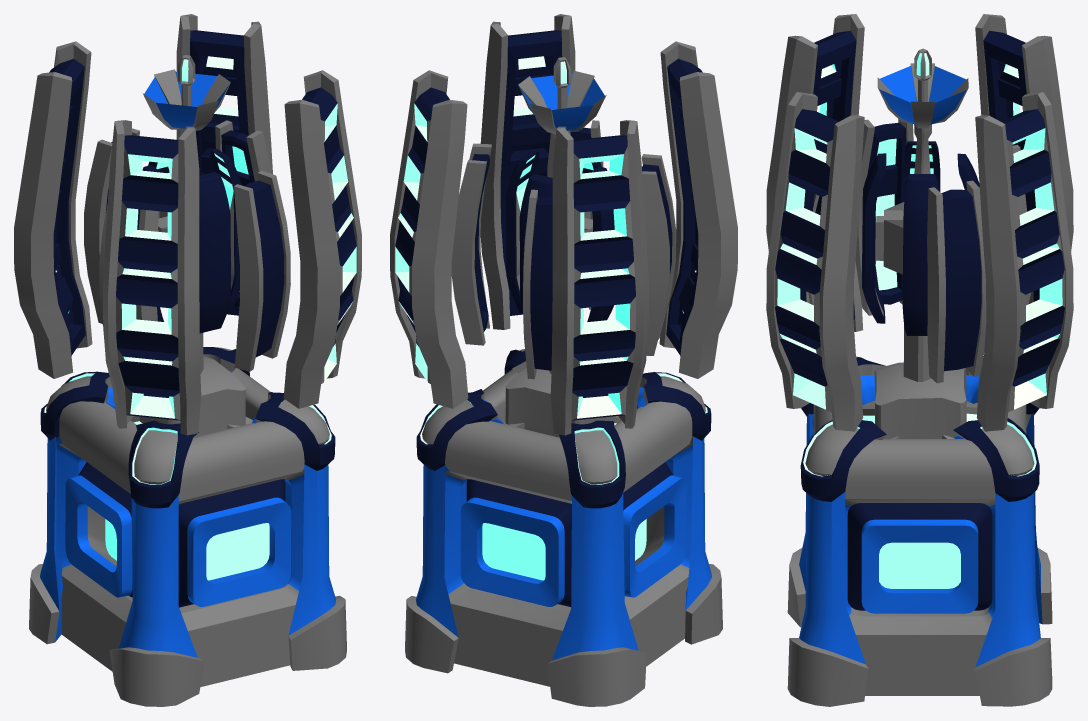
Rendered from hacker kule seviye 3.fbx.
The picture shows the model from 3 angles, left to right: view 1: azimuth 30°, elevation 25°; view 2: azimuth 150°, elevation 25°; view 3: azimuth 270°, elevation 25°; orthographic projection. The views are drawn at different scales.
Visible parts, largest first — view 1: Cube.012, Cube.032, Cube.033; view 2: Cube.012, Cube.032, Cube.033; view 3: Cube.012, Cube.032, Cube.033.
Boxes of the visible parts, <box> form: Cube.012: <box>29,55,346,706</box>; Cube.032: <box>14,14,361,435</box>; Cube.033: <box>84,120,290,371</box>; Cube.012: <box>405,57,722,706</box>; Cube.032: <box>390,14,737,435</box>; Cube.033: <box>451,120,676,379</box>; Cube.012: <box>787,48,1052,706</box>; Cube.032: <box>766,14,1073,431</box>; Cube.033: <box>808,119,1031,383</box>.
Size of the model in its own units: 285 by 629 by 289.
